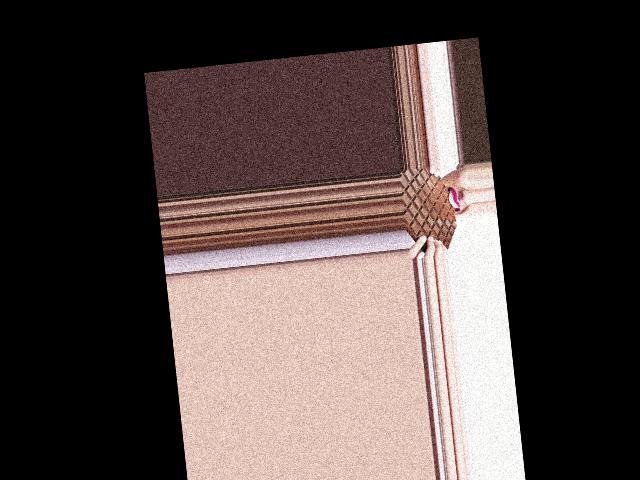chocolate: (399, 165, 461, 260)
